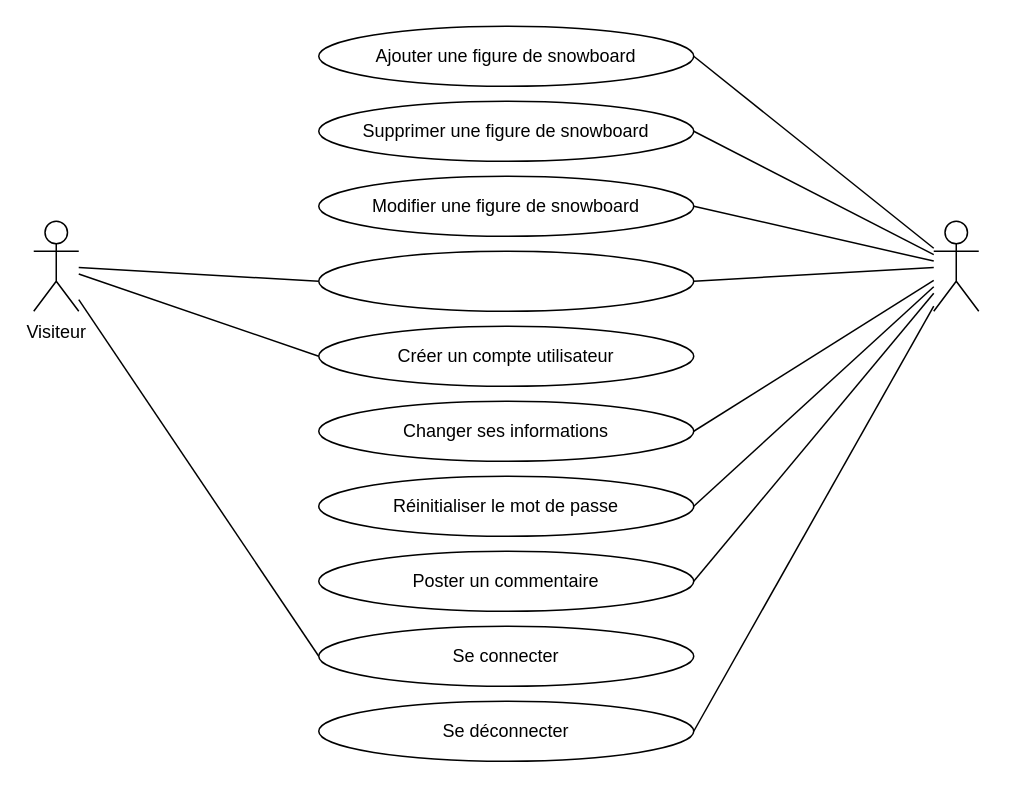
This 1022x788 diagram has some shape labels left out. The shapes that lost their labels are listed below. From the top down, each one's box as (x1, y1, x2, y2) in pixels, then its label:
(317, 250, 694, 311): Voir une figure de snowboard
(932, 220, 979, 311): Utilisateur
